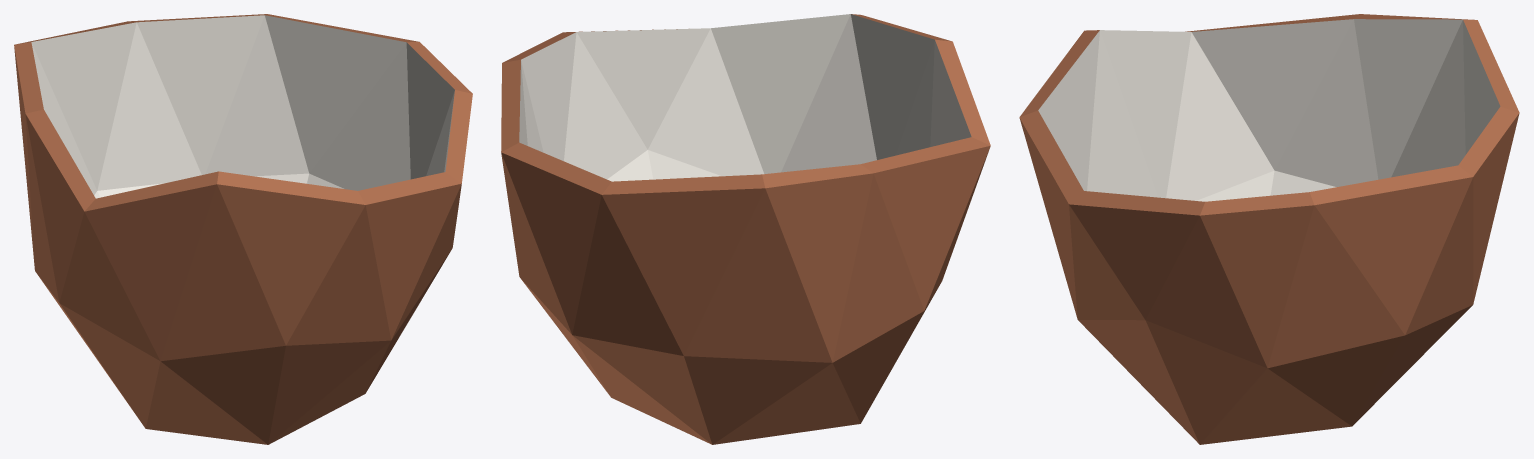
The model's file is Lumpy Oval Brokonut.fbx.
3 renders of one model, left to right at view 1: azimuth 30°, elevation 25°; view 2: azimuth 150°, elevation 25°; view 3: azimuth 270°, elevation 25°, orthographic. The views are drawn at different scales.
Parts seen in each view (by area): view 1: Lumpy Oval Brokonut; view 2: Lumpy Oval Brokonut; view 3: Lumpy Oval Brokonut.
Boxes of the visible parts, x1,y1,x2,y2 form: Lumpy Oval Brokonut: (14, 14, 472, 444); Lumpy Oval Brokonut: (501, 14, 990, 444); Lumpy Oval Brokonut: (1019, 14, 1519, 444).
Size of the model in its own units: 195 by 159 by 205.
